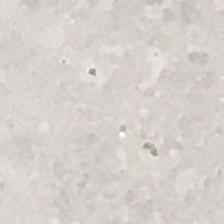Non_Crack: (27, 15, 224, 217)
